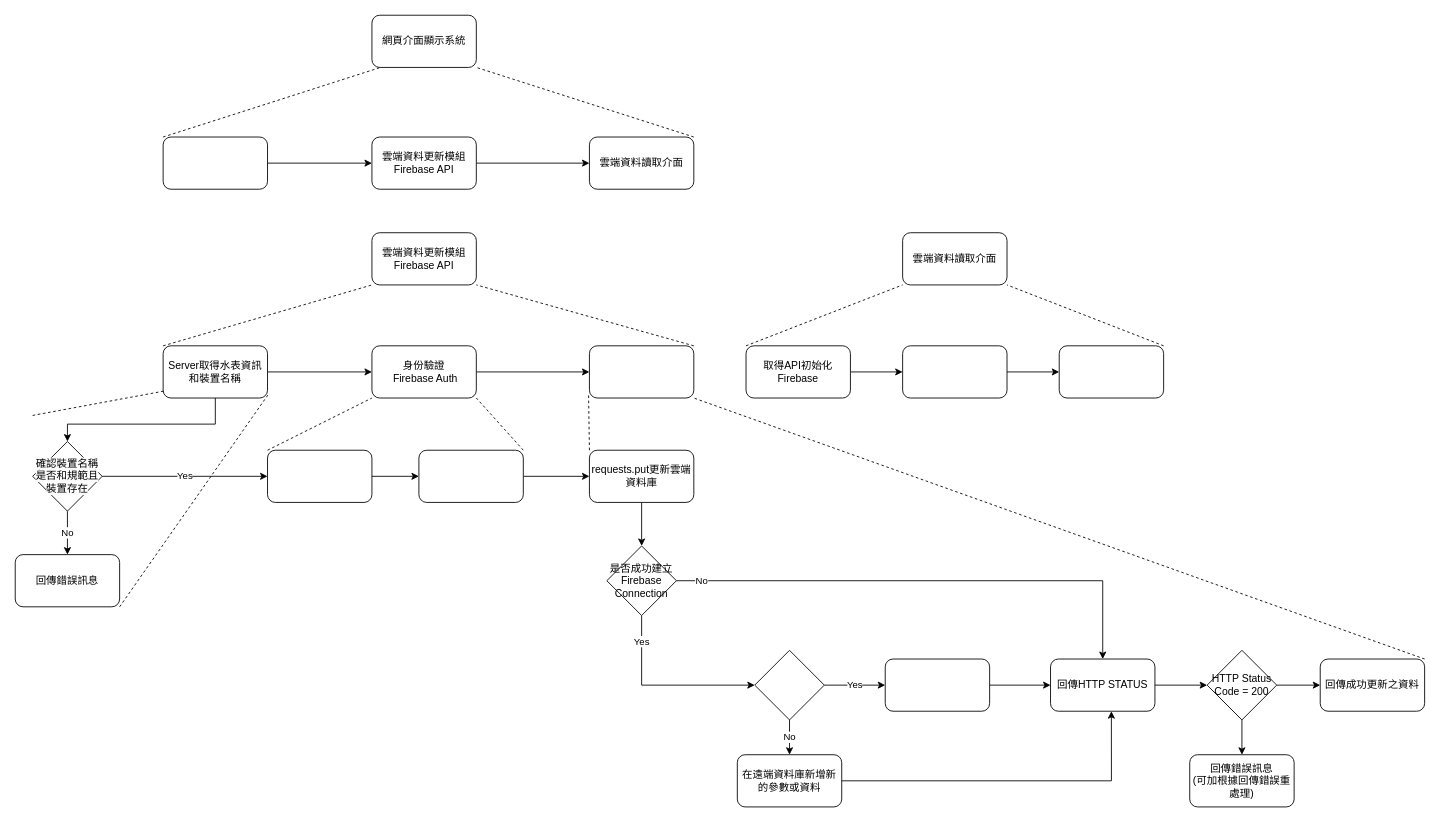
The diagram is 1441 pixels wide and 822 high, and some of its shapes have lost their labels. Each missing label, with the centre of its shape:
"Access Firebase database" belongs at pixel 954 371.
"傳輸參數或資源是否存在" belongs at pixel 789 684.
"即時監聽所有裝置的資訊" belongs at pixel 1111 371.
"取得API登入Firebase 取得idToken (RestAPI寫入所需)" belongs at pixel 470 475.
"建立登入用Custom Token" belongs at pixel 319 475.
"更新指定存在資料" belongs at pixel 937 684.
"更新資料 Update Database" belongs at pixel 641 371.
"觸發資料更新模組" belongs at pixel 215 162.
